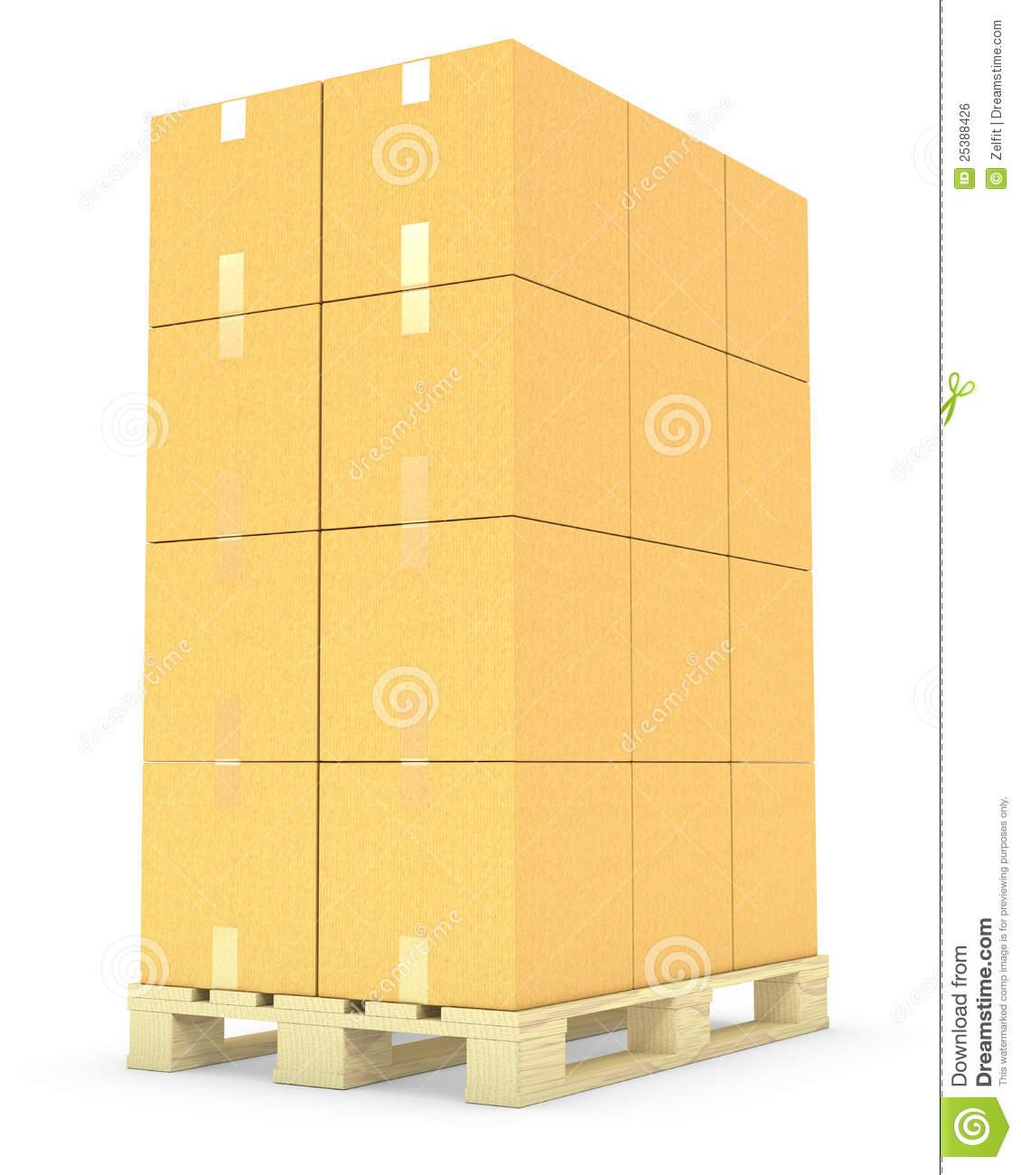Box: (323, 41, 629, 312), (321, 278, 629, 534), (319, 762, 633, 1010), (319, 519, 631, 761), (149, 83, 320, 326), (140, 762, 317, 994), (147, 305, 319, 542), (145, 532, 319, 762), (622, 106, 727, 349), (624, 542, 732, 762), (633, 764, 734, 986), (631, 321, 727, 553), (726, 158, 810, 380), (727, 358, 810, 569), (732, 764, 817, 967), (730, 558, 814, 762)
pallet: (128, 955, 828, 1106)
